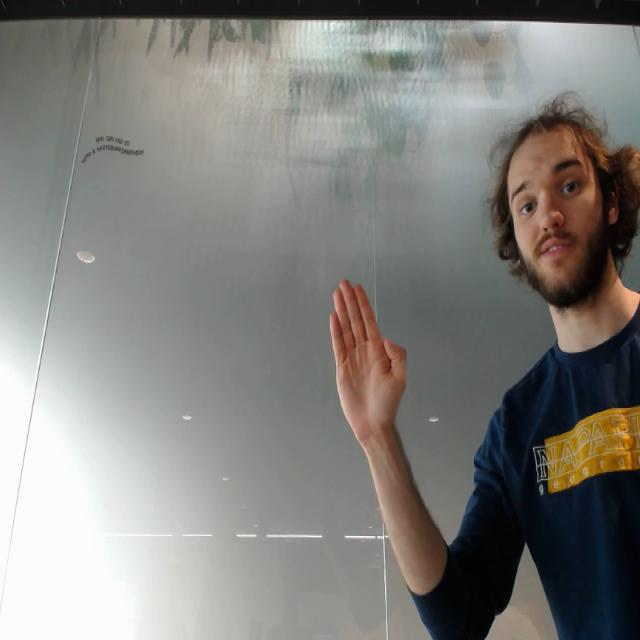backward: (313, 263, 413, 434)
